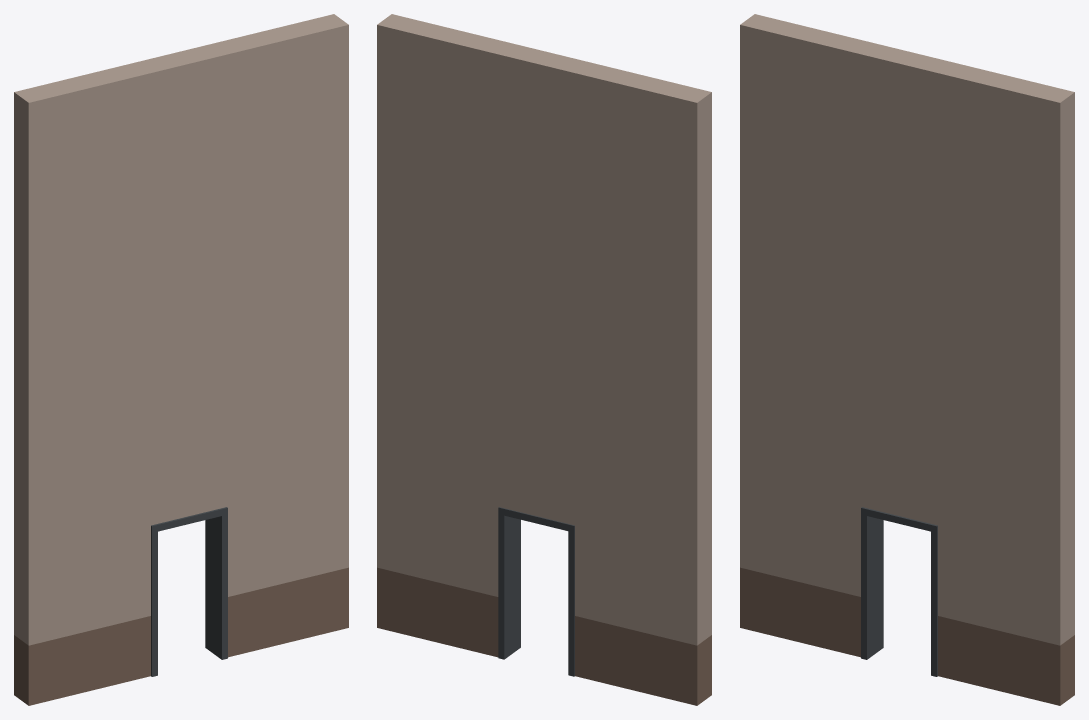
Rendered from Wall2_07.fbx.
The picture shows the model from 3 angles, left to right: view 1: azimuth 30°, elevation 25°; view 2: azimuth 150°, elevation 25°; view 3: azimuth 330°, elevation 25°; orthographic projection.
Parts seen in each view (by area): view 1: Wall2_07; view 2: Wall2_07; view 3: Wall2_07.
Part boxes in pixels (x1,y1,x2,y2): Wall2_07: [14, 14, 348, 705]; Wall2_07: [377, 14, 711, 705]; Wall2_07: [740, 14, 1074, 705].
Size of the model in its own units: 500 by 900 by 44.95.
